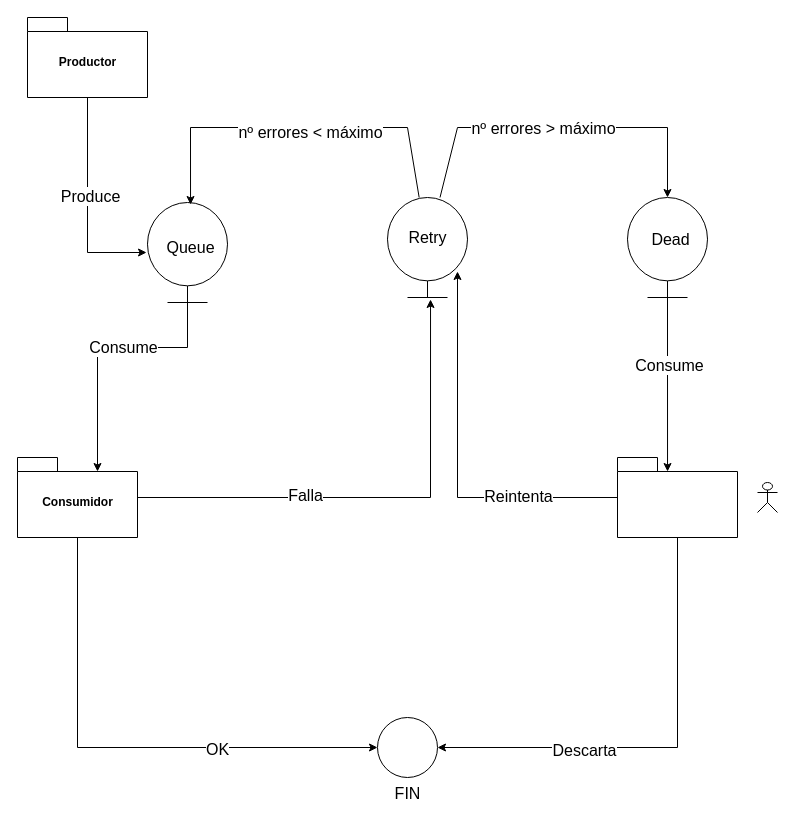
This 803x821 diagram has some shape labels left out. The shapes that lost their labels are listed below. From the top down, each one's centre as x and y in pixels, then its label:
(677,497): Administrador
(767,497): Actor
